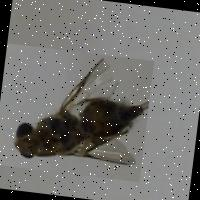Oriental-fruit-fly: (0, 42, 153, 181)
